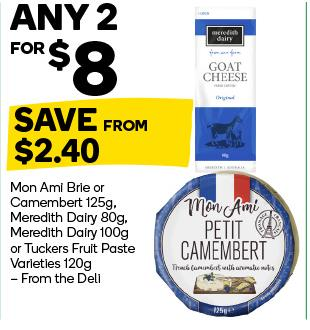description_block: (6, 176, 138, 294)
price_main: (2, 2, 148, 101)
product_image_block: (162, 6, 298, 319)
promo_text_block: (5, 104, 191, 168)
